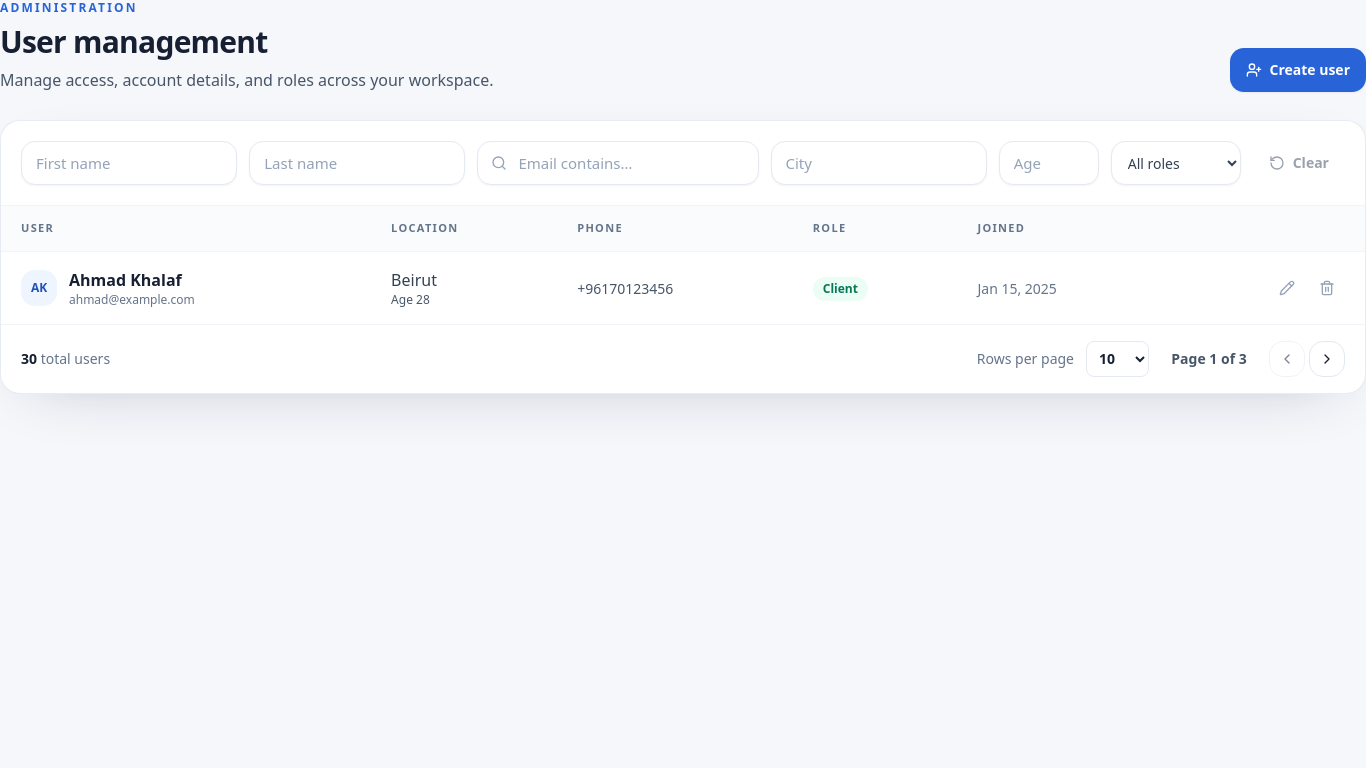
Scenario: UsersManagementPage › debounces filters, resets pages, paginates, changes limits, and opens creation
The image size is (1366, 768).
Expected: the text "Ahmad Khalaf" is shown, [69,268,195,292]
Type "Beirut" into the field named "Filter by city".
click(879, 163); type("Beirut")  # box [770,141,987,185]
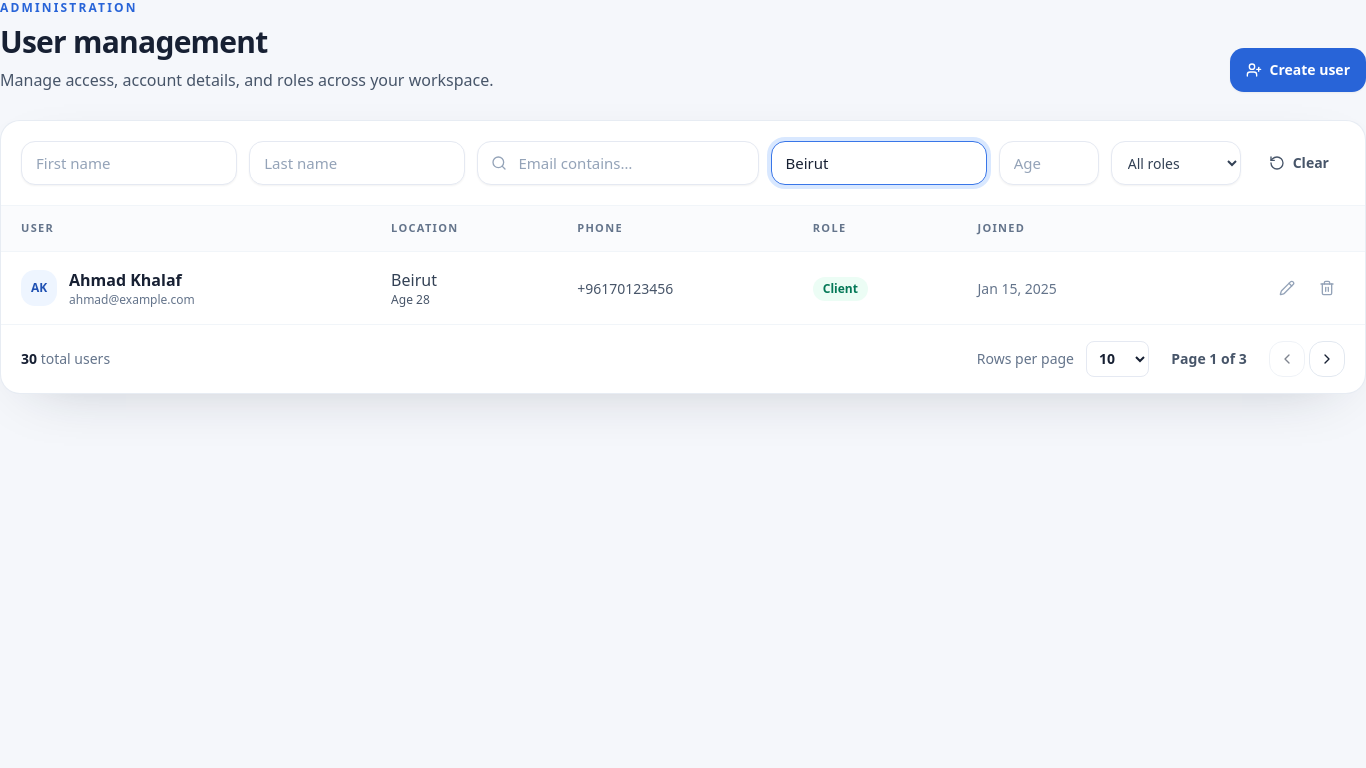
Expected: the text "Beirut" is shown, [391,268,437,290]
Click the button named "Next page".
click(1327, 358)  # box [1309,340,1345,376]
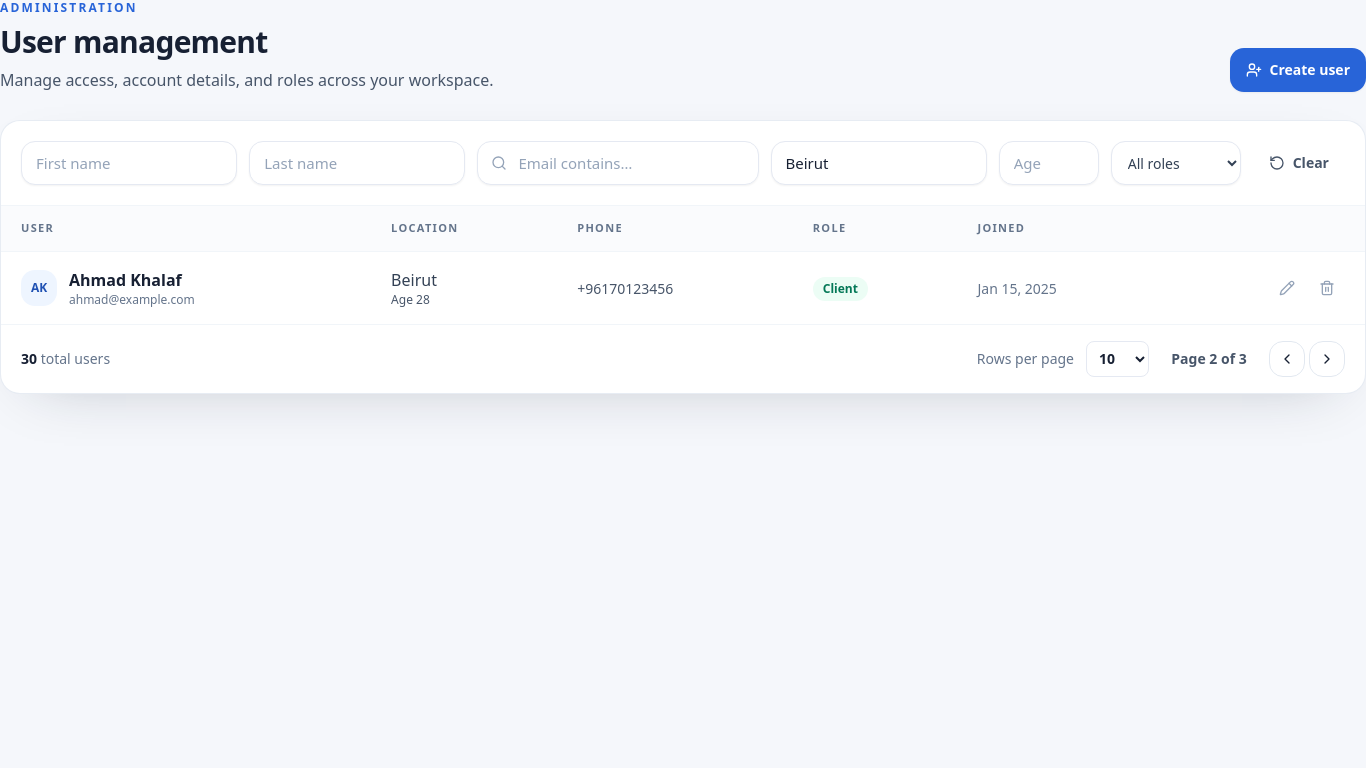
Select "25" in the dropdown labelled "Rows per page" at (1118, 358), box [1086,340,1149,376]
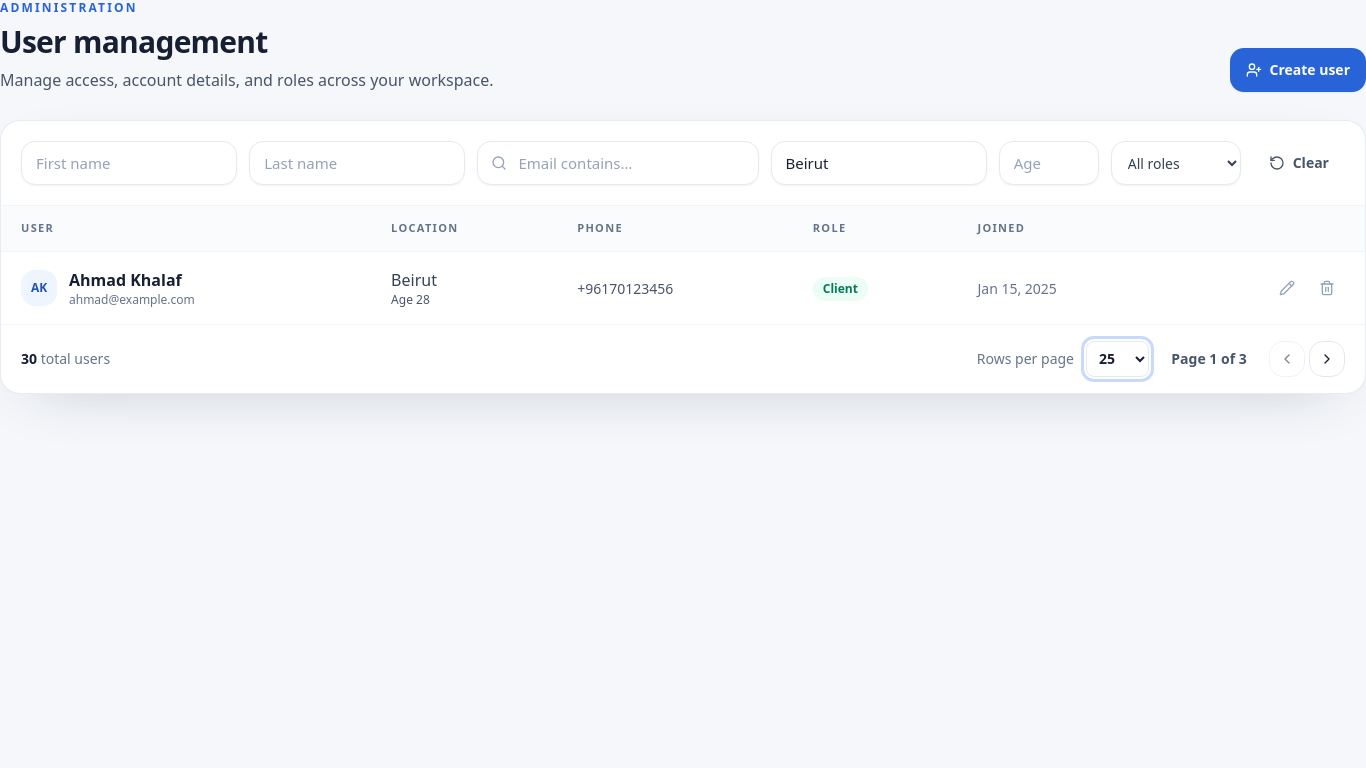
Click the button "Clear".
click(1299, 163)  # box [1253,141,1345,185]
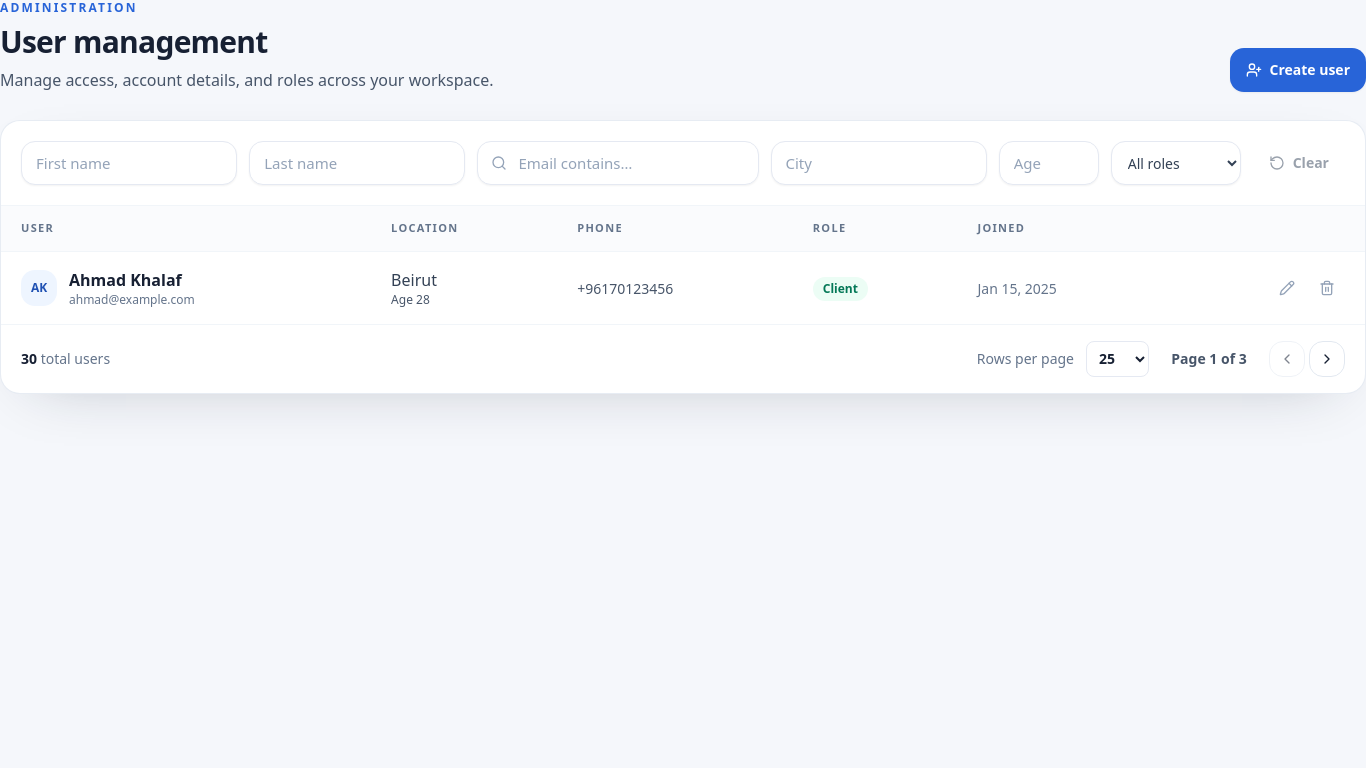
Click the button "Create user".
click(1298, 70)  # box [1230,48,1365,92]
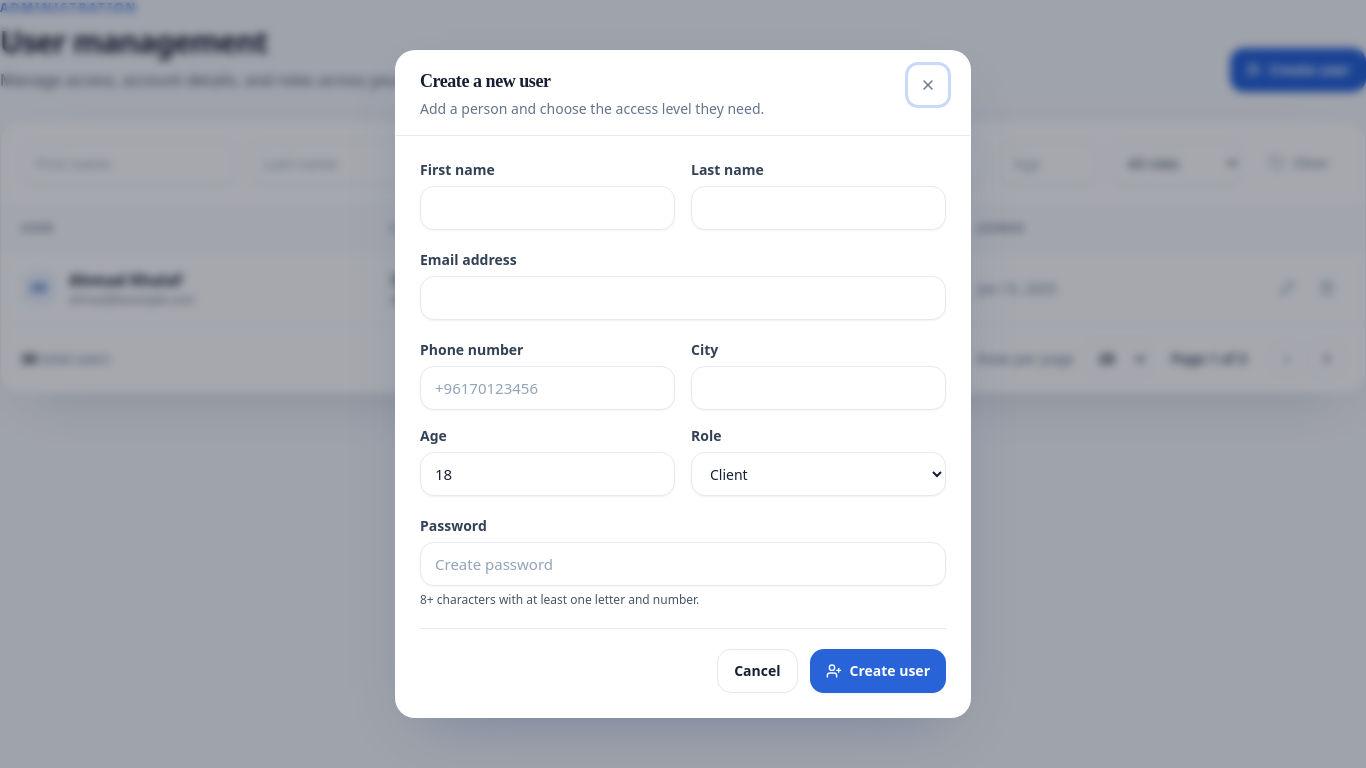
Result: the heading "Create a new user" is shown at [420,71,550,91]
